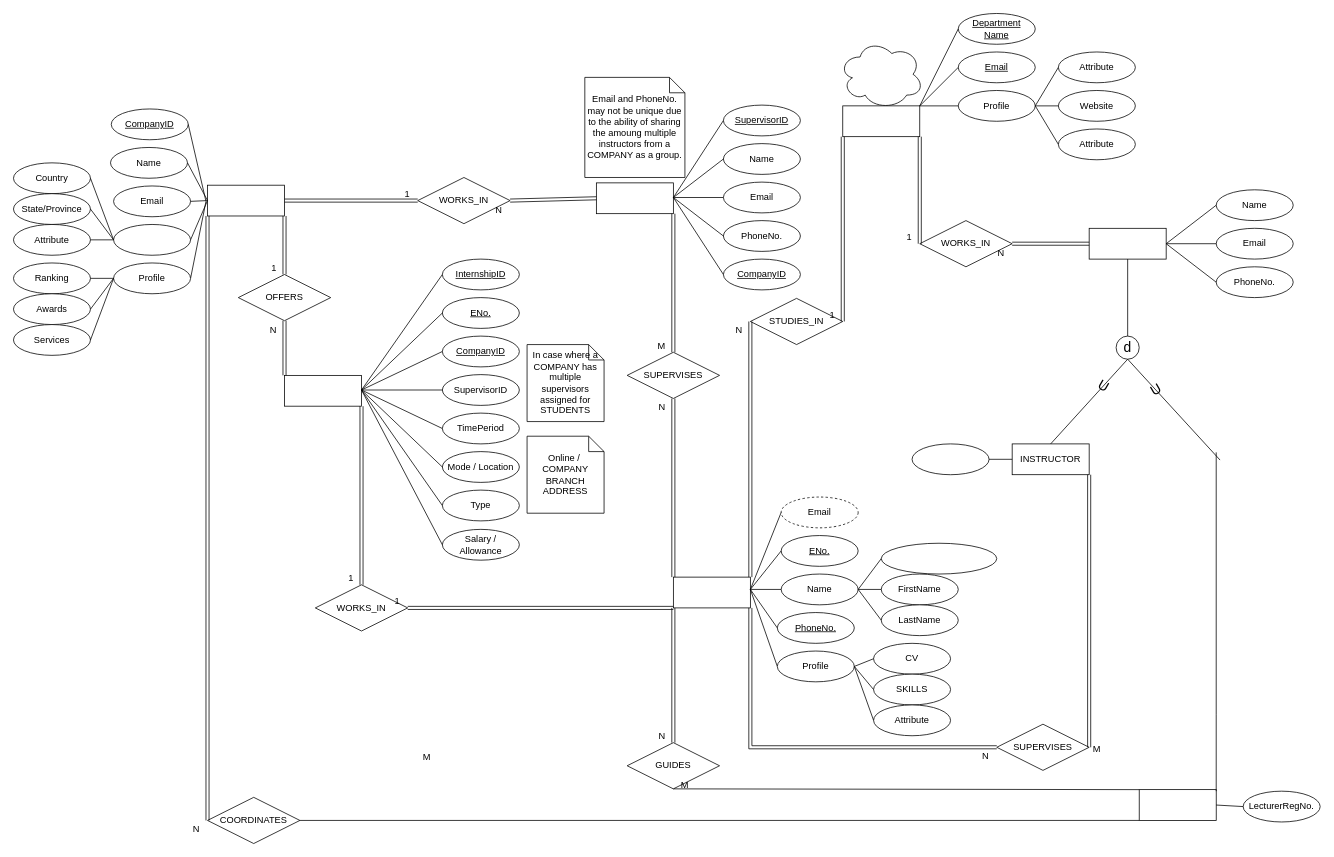
This 1334x857 diagram has some shape labels left out. The centre of each missing label's shape, as x and y in pixels:
Address: the point at 152,239
COMPANY: the point at 246,200
DEPARTMENT: the point at 881,121
InstructorRegNo.: the point at 950,459
INTERNSHIP: the point at 323,390
LECTURER: the point at 1177,804
STAFF: the point at 1127,243
STUDENT: the point at 711,592
SUPREVISOR: the point at 634,198
SurnameWithInitials: the point at 938,558
To give an impression on the Department: the point at 881,74
